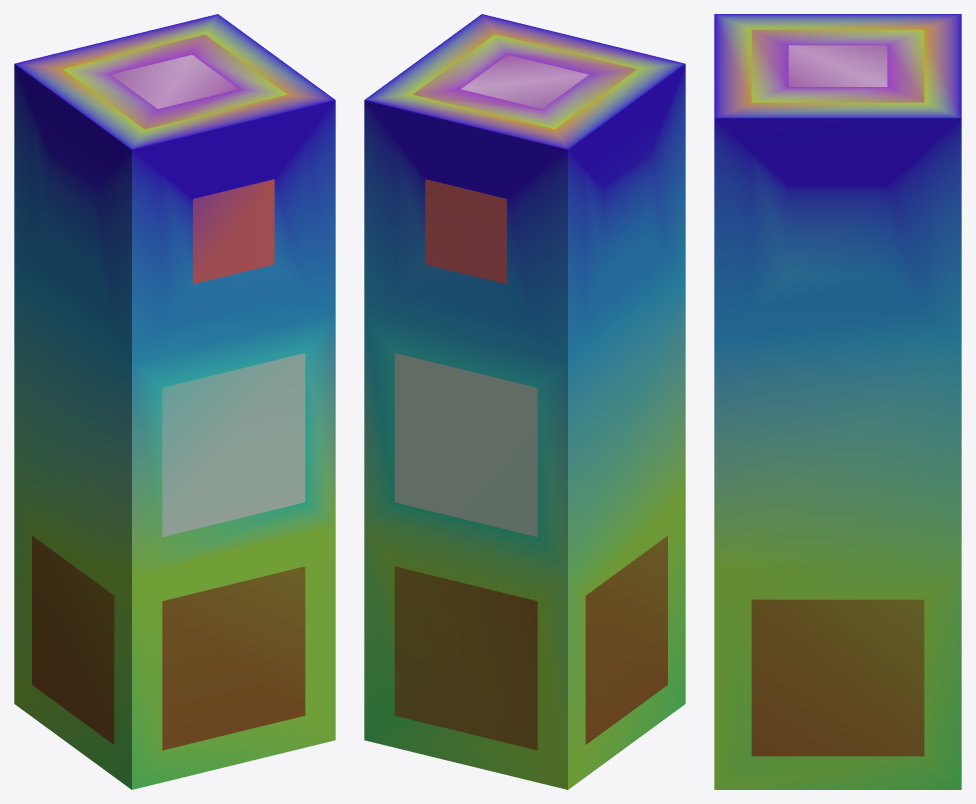
The model's file is shapeKeyAnimationColored.gltf.
The picture shows the model from 3 angles, left to right: view 1: azimuth 30°, elevation 25°; view 2: azimuth 150°, elevation 25°; view 3: azimuth 270°, elevation 25°; orthographic projection. The views are drawn at different scales.
Parts seen in each view (by area): view 1: Cube; view 2: Cube; view 3: Cube.
Part boxes in pixels (<box>): Cube: <box>14,14,335,789</box>; Cube: <box>364,14,685,789</box>; Cube: <box>714,14,961,789</box>.
Size of the model in its own units: 2 by 6 by 2.
